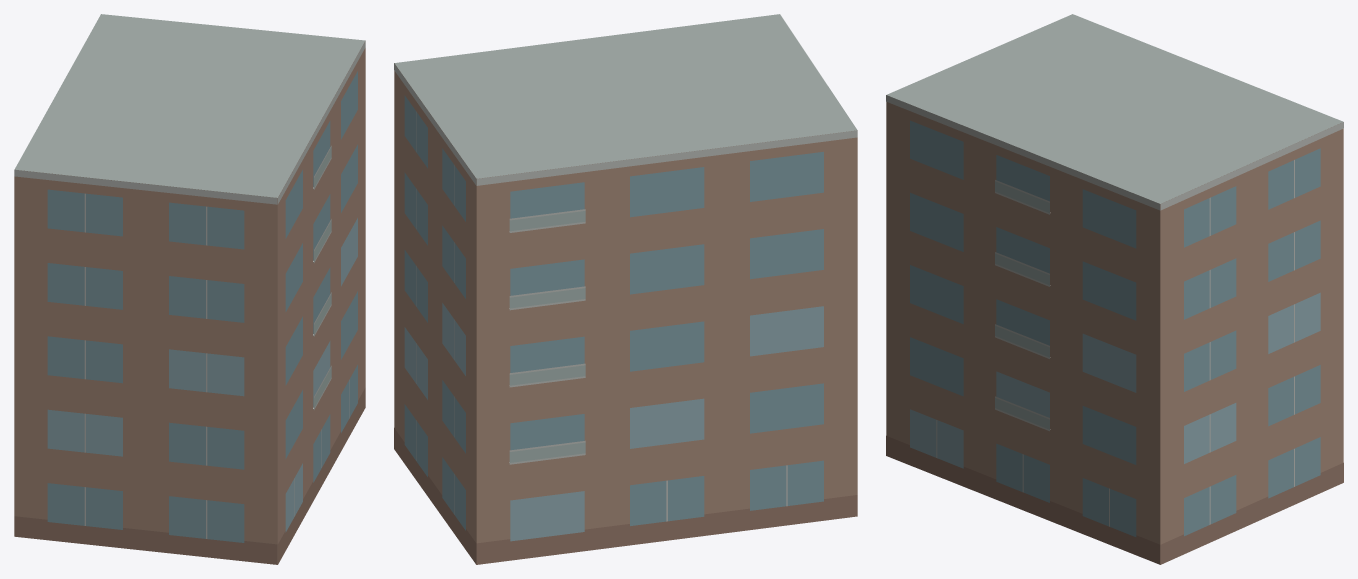
File: survey-upis-32999262.glb
3 views of the same model, side by side, from view 1: azimuth 30°, elevation 25°; view 2: azimuth 150°, elevation 25°; view 3: azimuth 270°, elevation 25° (orthographic). The views are drawn at different scales.
Visible parts, largest first — view 1: survey-upis-32999262.tmp; view 2: survey-upis-32999262.tmp; view 3: survey-upis-32999262.tmp.
Boxes of the visible parts, left/top/right/bottom form: survey-upis-32999262.tmp: left=14, top=14, right=365, bottom=564; survey-upis-32999262.tmp: left=394, top=14, right=857, bottom=564; survey-upis-32999262.tmp: left=886, top=14, right=1343, bottom=564.
Size of the model in its own units: 14.91 by 13.2 by 15.17.
